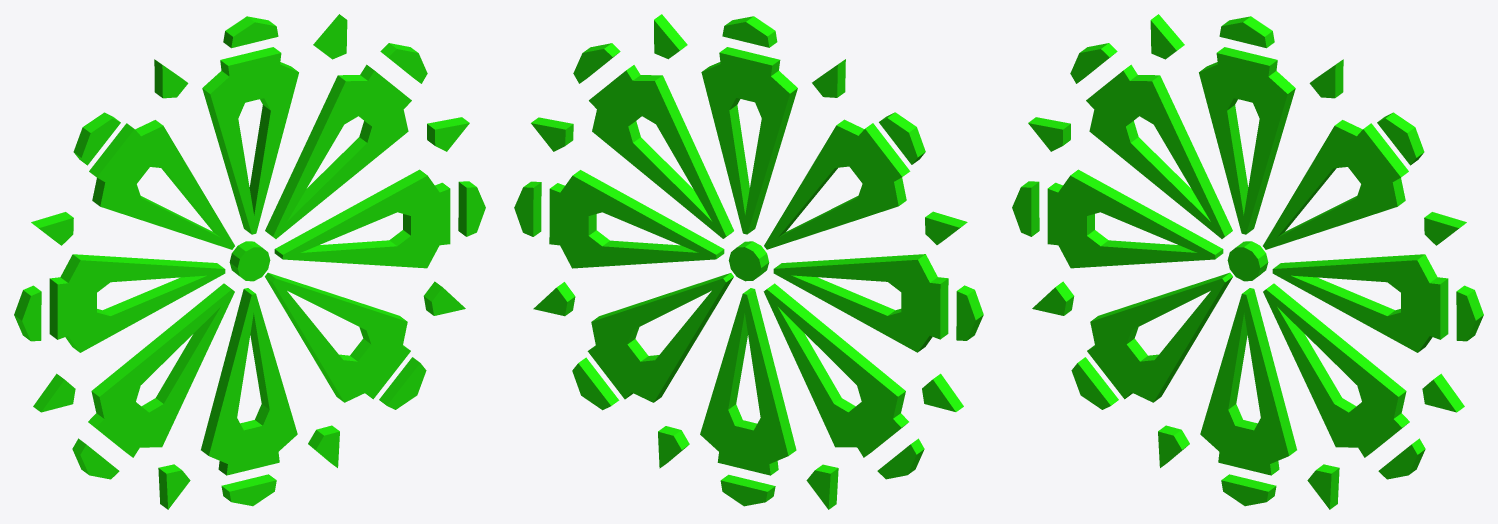
File: rosacea-original.glb
The picture shows the model from 3 angles, left to right: view 1: azimuth 30°, elevation 25°; view 2: azimuth 150°, elevation 25°; view 3: azimuth 330°, elevation 25°; orthographic projection.
Parts seen in each view (by area): view 1: root; view 2: root; view 3: root.
Part boxes in pixels (x1,y1,x2,y2): root: (14,14,485,509); root: (514,14,983,509); root: (1012,14,1483,509).
Bounding box in the file's own units: 5.99 × 5.99 × 0.2231.
